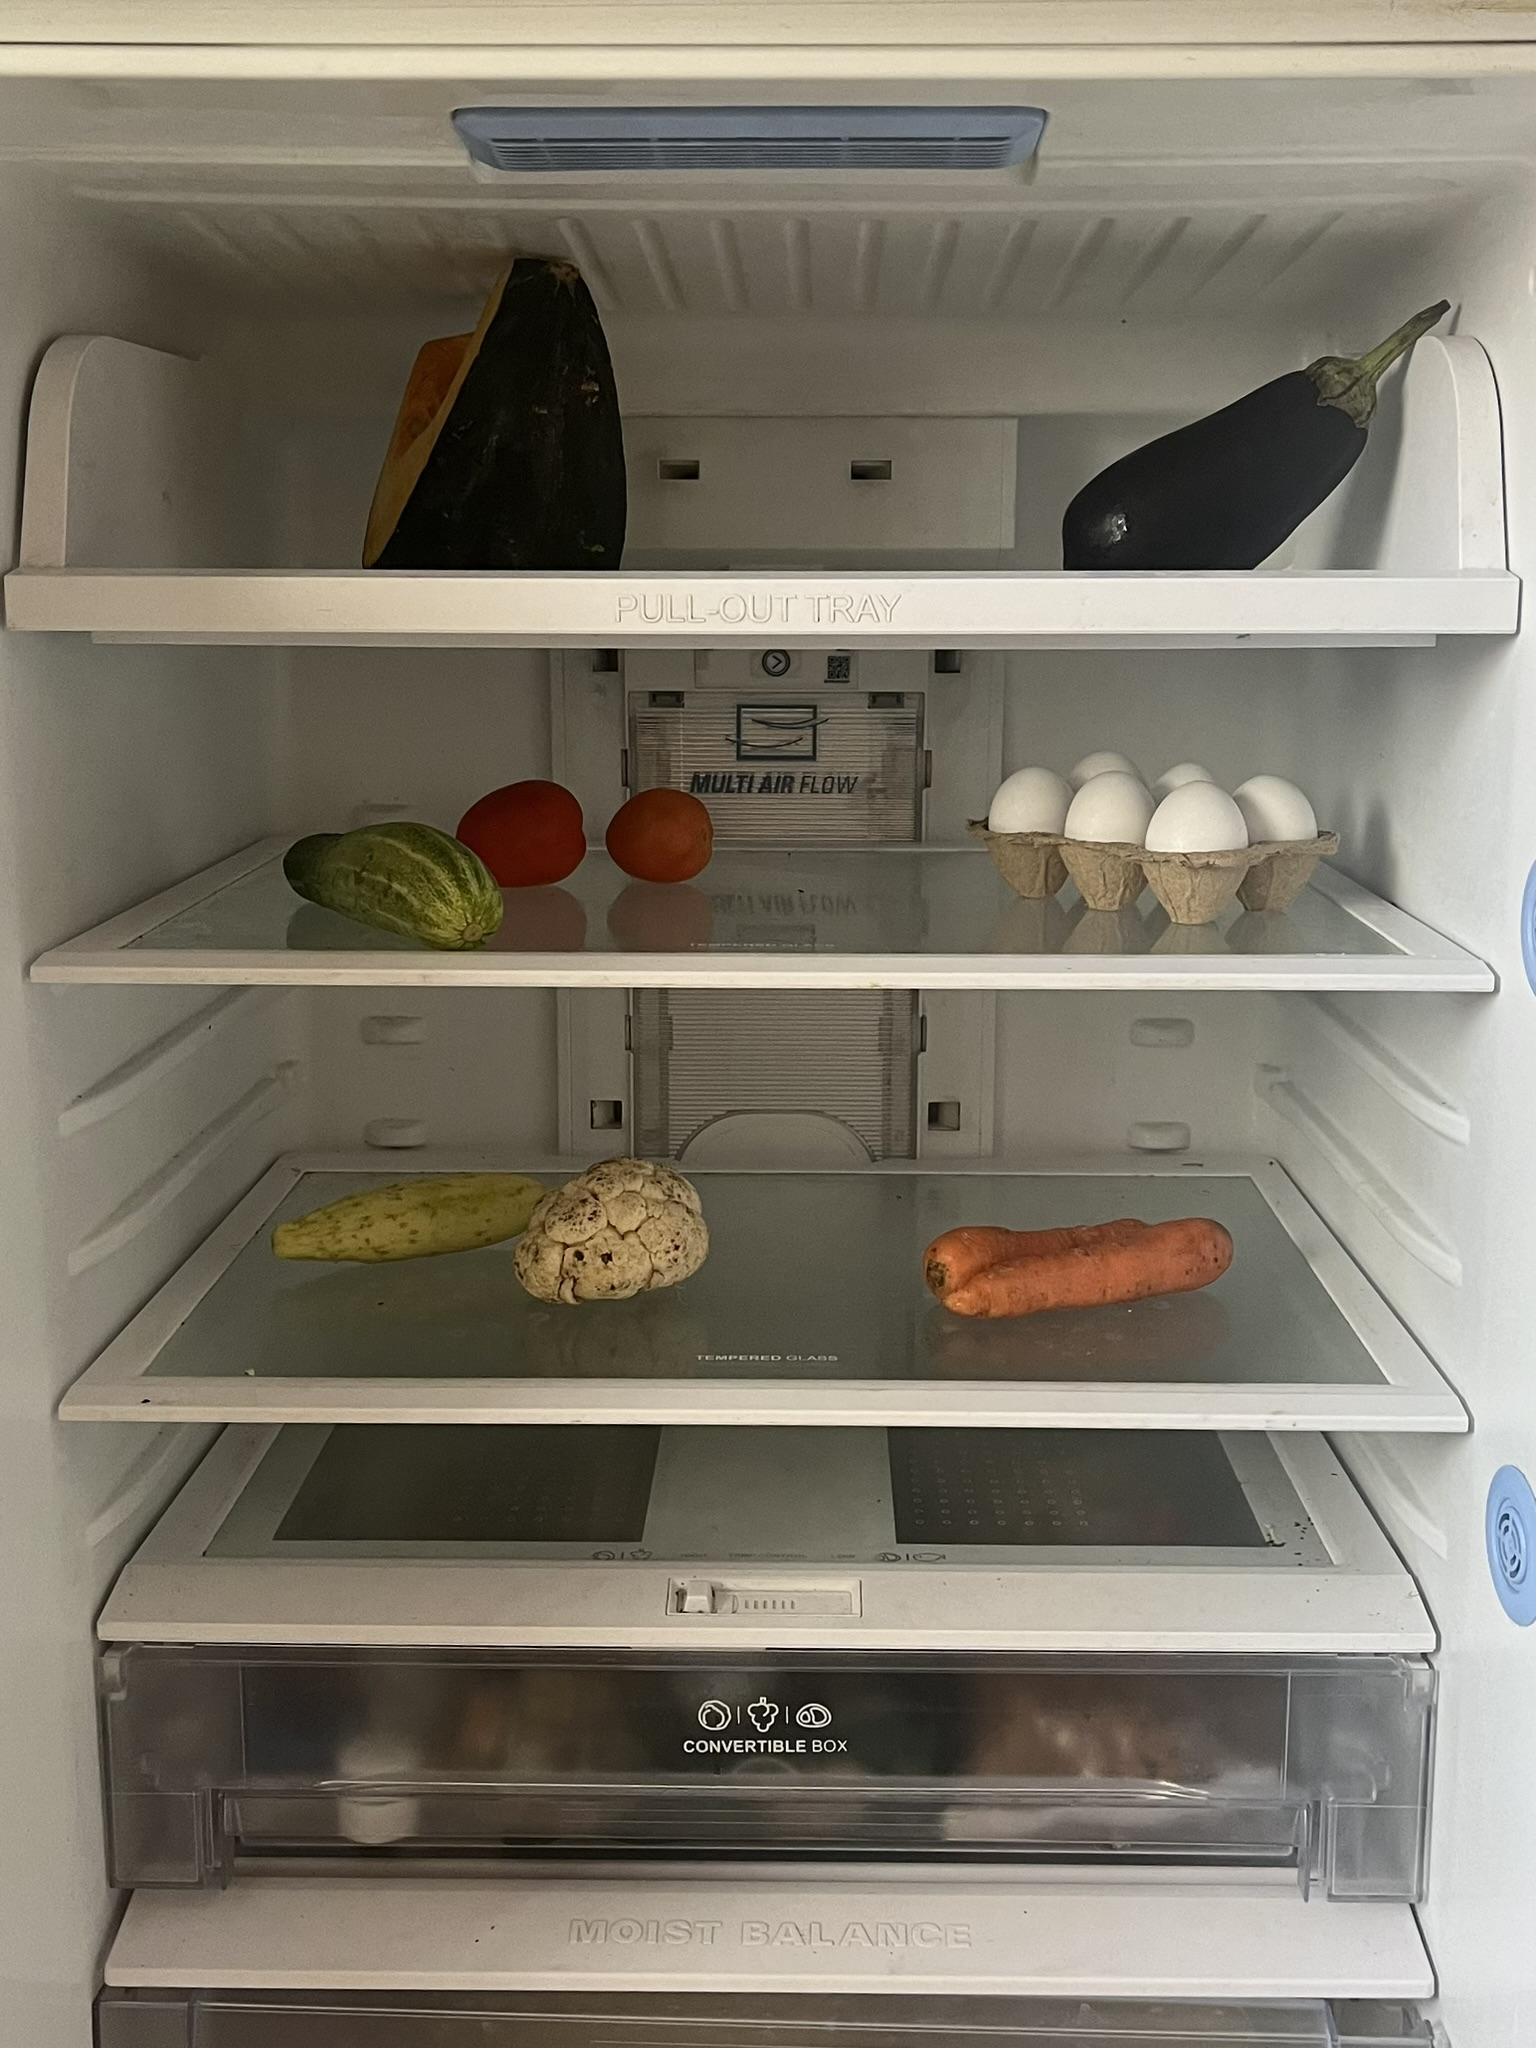bringal: (1057, 287, 1460, 569)
carrots: (926, 1203, 1254, 1327)
cauliflower: (523, 1150, 723, 1303)
cucumber: (281, 810, 526, 943), (257, 1166, 584, 1253)
egg: (976, 737, 1344, 916)
pumpkin: (366, 253, 626, 560)
tomato: (466, 774, 597, 887), (603, 784, 720, 887)
